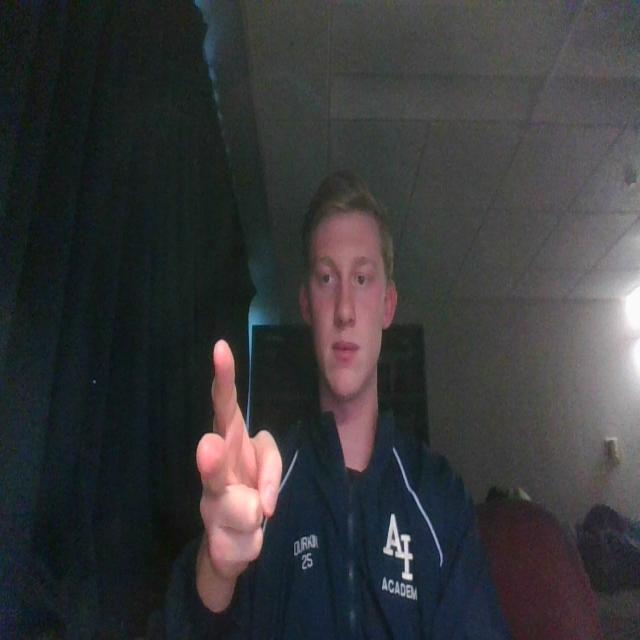scissors: (189, 332, 285, 588)
